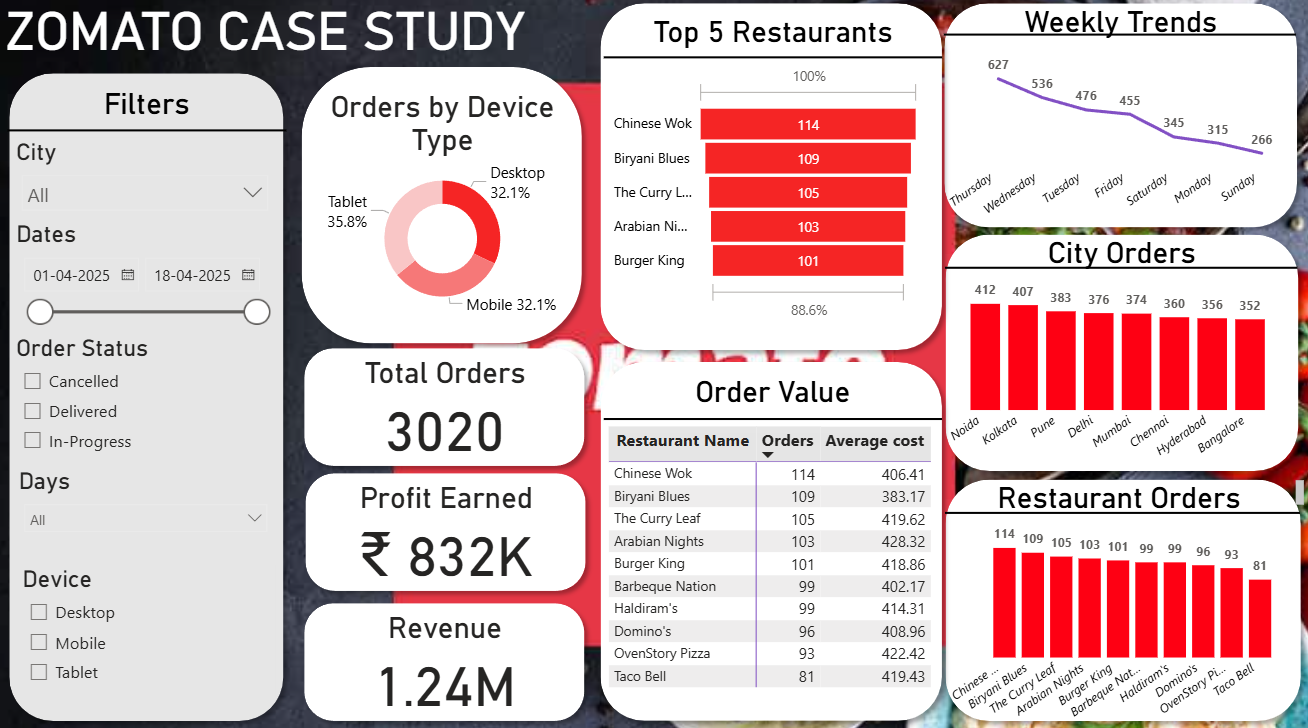

What the dashboard file says about the page in this screenshot:
{"tool":"powerbi","page":{"name":"Page 1","canvas":[1280,720],"ordinal":0},"visuals":[{"type":"textbox","box":[0,0,590.6,99],"z":0},{"type":"group","id":"g1","title":"Group 6","box":[578.4,0,352.4,357.6],"z":0,"group":"g16"},{"type":"shape","box":[578.4,0,352.4,357.6],"z":0,"group":"g1"},{"type":"group","id":"g2","title":"Group 1","box":[914.7,0,363.2,237.2],"z":0,"group":"g14"},{"type":"shape","box":[914.7,0,363.2,237.2],"z":0,"group":"g2"},{"type":"group","id":"g3","title":"Group 3","box":[590.6,14.9,331.6,60.6],"z":0,"group":"g9"},{"type":"group","id":"g4","title":"Group 4","box":[590.6,14.9,331.6,60.6],"z":0,"group":"g3"},{"type":"textbox","box":[591.1,14.9,331.1,49.7],"z":0,"group":"g4"},{"type":"shape","box":[286.1,62.4,292.3,288.6],"z":0,"group":"g17"},{"type":"shape","box":[0,68.5,286.1,651.8],"z":0,"group":"g12"},{"type":"group","id":"g5","title":"Group 1","box":[915.9,226.2,363.2,249.5],"z":0,"group":"g13"},{"type":"shape","box":[915.9,226.2,363.2,249.5],"z":0,"group":"g5"},{"type":"shape","box":[578.4,351,352.2,369.3],"z":0,"group":"g15"},{"type":"group","id":"g6","title":"Group 3","box":[590.6,366.3,331.1,340.2],"z":0,"group":"g10"},{"type":"group","id":"g7","title":"Group 4","box":[590.6,366.3,331.4,339.9],"z":0,"group":"g6"},{"type":"pivotTable","fields":{"Rows":["zomato_order_data.Restaurant Name"],"Values":["Sum(zomato_order_data.number_of_items)","Avg(zomato_order_data.cost)"]},"box":[590.6,417.4,325.3,288.8],"z":0,"group":"g7"},{"type":"group","id":"g8","title":"Group 1","box":[915.9,465.9,365.6,254.3],"z":0,"group":"g11"},{"type":"shape","box":[915.9,465.9,365.6,254.3],"z":0,"group":"g8"},{"type":"group","id":"g9","title":"Group 5","box":[590.6,14.9,331.6,60.6],"z":1000,"group":"g1"},{"type":"shape","box":[922.8,26.6,344.7,25.6],"z":1000,"group":"g2"},{"type":"shape","box":[590.6,49.4,331.1,26.1],"z":1000,"group":"g4"},{"type":"funnel","fields":{"Category":["zomato_order_data.Restaurant Name"],"Y":["CountNonNull(zomato_order_data.items_ordered)"]},"box":[595.1,64.7,310.4,258.7],"z":1000,"group":"g16"},{"type":"donutChart","title":"Orders by Device Type","fields":{"Y":["CountNonNull(zomato_order_data.number_of_items)"],"Series":["zomato_order_data.Devic Type"]},"box":[309.2,92.5,247,227.4],"z":1000,"group":"g17"},{"type":"shape","box":[7.1,97.9,273.2,71.3],"z":1000,"group":"g12"},{"type":"shape","box":[924,254.1,344.7,26.9],"z":1000,"group":"g5"},{"type":"group","id":"g10","title":"Group 5","box":[590.6,366.3,331.4,339.9],"z":1000,"group":"g15"},{"type":"textbox","box":[591.1,366.3,330.9,51.3],"z":1000,"group":"g7"},{"type":"group","id":"g11","title":"Group 2","box":[915.9,465.9,365.6,254.3],"z":1000},{"type":"shape","box":[924.1,494.4,347,27.5],"z":1000,"group":"g8"},{"type":"lineChart","title":"Orders by city","fields":{"Category":["zomato_order_data.Order Week"],"Y":["Sum(zomato_order_data.number_of_items)"]},"box":[919.5,34.1,337.2,203.1],"z":2000,"group":"g2"},{"type":"group","id":"g12","title":"Group 2","box":[0,68.5,286.1,651.8],"z":2000},{"type":"slicer","title":"City","fields":{"Values":["zomato_order_data.restaurant_city"]},"box":[10.6,140.6,261.4,79.9],"z":2000,"group":"g12"},{"type":"columnChart","title":"Orders by city","fields":{"Y":["Sum(zomato_order_data.number_of_items)"],"Category":["zomato_order_data.restaurant_city"]},"box":[920.7,262.1,337.2,213.5],"z":2000,"group":"g5"},{"type":"shape","box":[590.6,402,330.9,27],"z":2000,"group":"g7"},{"type":"columnChart","title":"Orders by city","fields":{"Category":["zomato_order_data.restaurant_name"],"Y":["Sum(zomato_order_data.number_of_items)"]},"box":[920.7,502.5,339.5,217.7],"z":2000,"group":"g8"},{"type":"textbox","box":[916,4.9,360.7,46.5],"z":3000,"group":"g2"},{"type":"textbox","box":[28.3,85,230.8,45.6],"z":3000,"group":"g12"},{"type":"slicer","title":"Dates","fields":{"Values":["zomato_order_data.order_date"]},"box":[11,221.3,261.7,103.9],"z":3000},{"type":"textbox","box":[917.2,231.3,360.7,48.9],"z":3000,"group":"g5"},{"type":"textbox","box":[917.3,471,363.1,37.6],"z":3000,"group":"g8"},{"type":"slicer","title":"Order Status","fields":{"Values":["zomato_order_data.order_status"]},"box":[11,332.6,261.7,127.2],"z":4000},{"type":"slicer","title":"Device","fields":{"Values":["zomato_order_data.device_type"]},"box":[17.1,558.8,251.9,129.6],"z":5000},{"type":"slicer","title":"Days","fields":{"Values":["zomato_order_data.order_day_of_week"]},"box":[13.5,462.2,258,91.7],"z":6000},{"type":"group","id":"g13","title":"Group 2","box":[915.9,226.2,363.2,249.5],"z":7000},{"type":"group","id":"g14","title":"Group 2","box":[914.7,0,363.2,237.2],"z":8000},{"type":"group","id":"g15","title":"Group 6","box":[578.4,351,352.2,369.3],"z":9000},{"type":"group","id":"g16","title":"Group 7","box":[578.4,0,352.2,357.1],"z":13000},{"type":"shape","box":[288.6,337.5,292.3,133.3],"z":13500,"group":"g20"},{"type":"shape","box":[289.8,459.8,292.3,133.3],"z":13500,"group":"g18"},{"type":"shape","box":[288.6,587,292.3,133.3],"z":13500,"group":"g19"},{"type":"group","id":"g17","title":"Group 8","box":[286.1,62.4,292.3,288.6],"z":14000},{"type":"card","title":"Total Orders","fields":{"Values":["zomato_order_data.total order items"]},"box":[311.8,353.4,247,102.7],"z":16000,"group":"g20"},{"type":"card","title":"Profit Earned","fields":{"Values":["zomato_order_data.Profit"]},"box":[313,475.7,247,102.7],"z":16000,"group":"g18"},{"type":"card","title":"Revenue","fields":{"Values":["zomato_order_data.Revenue"]},"box":[311.8,602.9,247,102.7],"z":16000,"group":"g19"},{"type":"group","id":"g18","title":"Group 9","box":[289.8,459.8,292.3,133.3],"z":16001},{"type":"group","id":"g19","title":"Group 9","box":[288.6,587,292.3,133.3],"z":16002},{"type":"group","id":"g20","title":"Group 9","box":[288.6,337.5,292.3,133.3],"z":16003}]}

Visuals, with their boxes in screenshot pixels (x1, y1, x2, y2), scaled from the page's 1280x720 canvas onto the 1308x728 screenshot:
textbox: [0, 0, 604, 100]
"Group 6" group: [591, 0, 951, 362]
shape: [591, 0, 951, 362]
"Group 1" group: [935, 0, 1306, 240]
shape: [935, 0, 1306, 240]
"Group 3" group: [604, 15, 942, 76]
"Group 4" group: [604, 15, 942, 76]
textbox: [604, 15, 942, 65]
shape: [292, 63, 591, 355]
shape: [0, 69, 292, 727]
"Group 1" group: [936, 229, 1307, 481]
shape: [936, 229, 1307, 481]
shape: [591, 355, 951, 727]
"Group 3" group: [604, 370, 942, 714]
"Group 4" group: [604, 370, 942, 714]
pivotTable - zomato_order_data.Restaurant Name x Sum(zomato_order_data.number_of_items): [604, 422, 936, 714]
"Group 1" group: [936, 471, 1307, 727]
shape: [936, 471, 1307, 727]
"Group 5" group: [604, 15, 942, 76]
shape: [943, 27, 1295, 53]
shape: [604, 50, 942, 76]
funnel - zomato_order_data.Restaurant Name x CountNonNull(zomato_order_data.items_ordered): [608, 65, 925, 327]
"Orders by Device Type" donutChart: [316, 94, 568, 323]
shape: [7, 99, 286, 171]
shape: [944, 257, 1296, 284]
"Group 5" group: [604, 370, 942, 714]
textbox: [604, 370, 942, 422]
"Group 2" group: [936, 471, 1307, 727]
shape: [944, 500, 1299, 528]
"Orders by city" lineChart: [940, 34, 1284, 240]
"Group 2" group: [0, 69, 292, 727]
"City" slicer: [11, 142, 278, 223]
"Orders by city" columnChart: [941, 265, 1285, 481]
shape: [604, 406, 942, 434]
"Orders by city" columnChart: [941, 508, 1288, 727]
textbox: [936, 5, 1305, 52]
textbox: [29, 86, 265, 132]
"Dates" slicer: [11, 224, 279, 329]
textbox: [937, 234, 1306, 283]
textbox: [937, 476, 1307, 514]
"Order Status" slicer: [11, 336, 279, 465]
"Device" slicer: [17, 565, 275, 696]
"Days" slicer: [14, 467, 277, 560]
"Group 2" group: [936, 229, 1307, 481]
"Group 2" group: [935, 0, 1306, 240]
"Group 6" group: [591, 355, 951, 727]
"Group 7" group: [591, 0, 951, 361]
shape: [295, 341, 594, 476]
shape: [296, 465, 595, 600]
shape: [295, 594, 594, 727]
"Group 8" group: [292, 63, 591, 355]
"Total Orders" card: [319, 357, 571, 461]
"Profit Earned" card: [320, 481, 572, 585]
"Revenue" card: [319, 610, 571, 713]
"Group 9" group: [296, 465, 595, 600]
"Group 9" group: [295, 594, 594, 727]
"Group 9" group: [295, 341, 594, 476]
